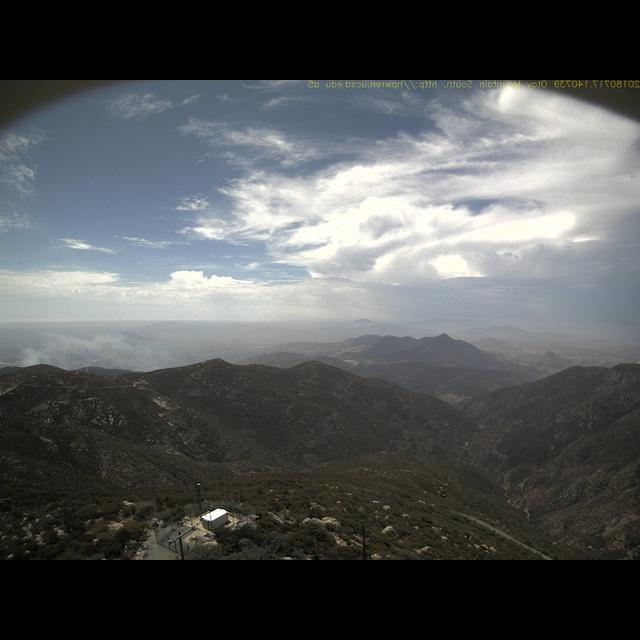Smoke: (19, 320, 169, 375)
